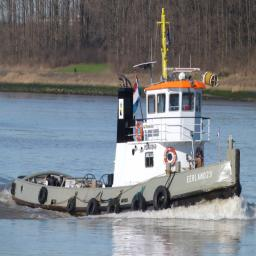tugboat: (11, 8, 245, 221)
